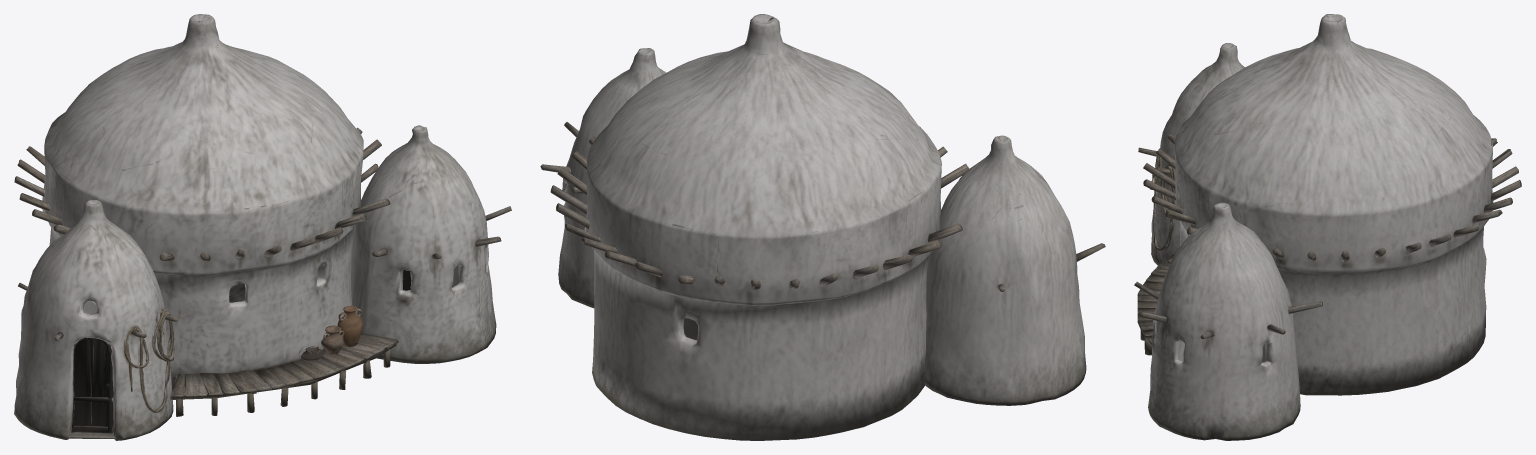
File: Meshy_AI_White_Earthen_Dwellin_1011195516_texture.glb
3 views of the same model, side by side, from view 1: azimuth 30°, elevation 25°; view 2: azimuth 150°, elevation 25°; view 3: azimuth 270°, elevation 25° (orthographic). The views are drawn at different scales.
Size of the model in its own units: 0.9531 by 0.6069 by 0.6802.
1 material, 1 textured.
